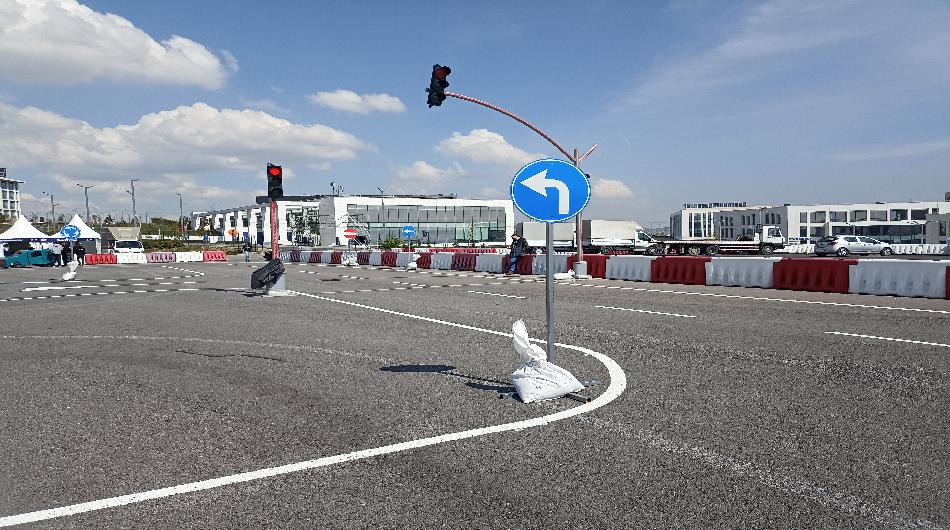ada: (60, 224, 87, 243)
girilmez: (342, 227, 358, 240)
red_light: (262, 161, 287, 201)
saga_mecburi_1: (398, 222, 421, 239)
sola_mecburi_2: (511, 156, 591, 223)
